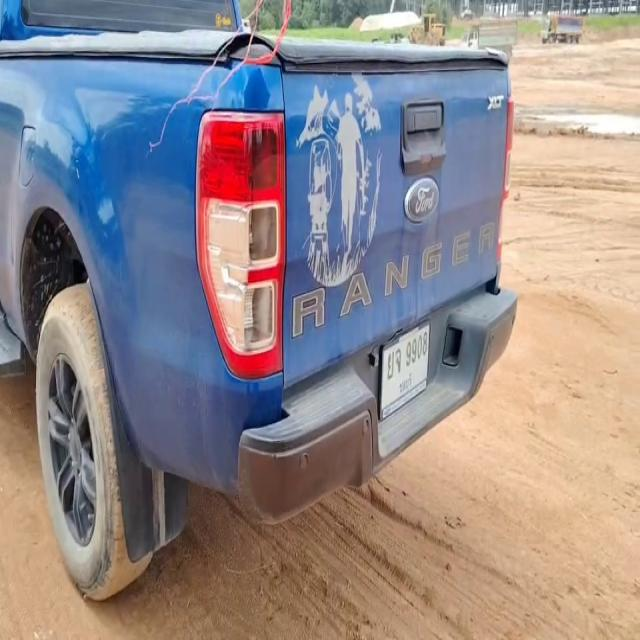Digit: (407, 329, 428, 369)
Licenseplate: (380, 317, 432, 426)
Provincename: (398, 372, 416, 396)
Thaichar: (388, 348, 402, 378)
